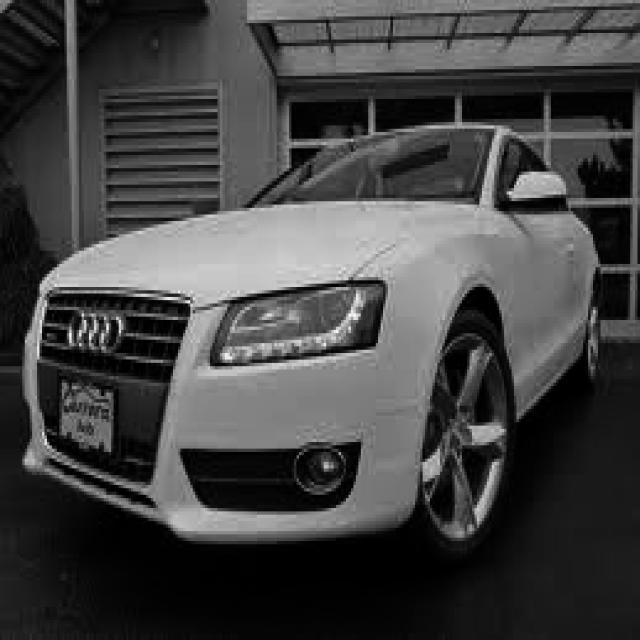car: (20, 119, 603, 567)
